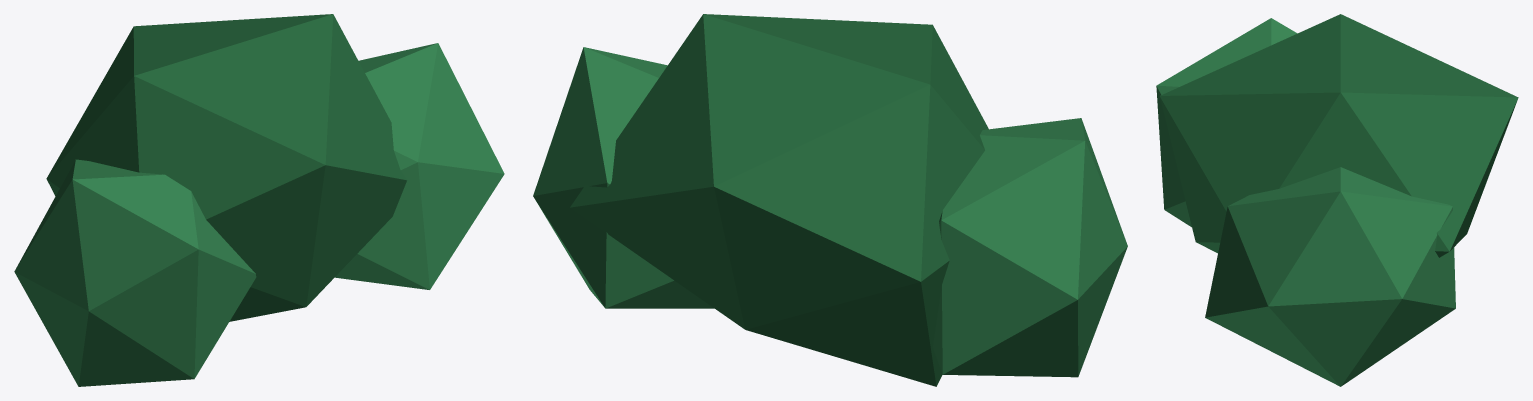
The model's file is bush.glb.
3 renders of one model, left to right at view 1: azimuth 30°, elevation 25°; view 2: azimuth 150°, elevation 25°; view 3: azimuth 270°, elevation 25°, orthographic. The views are drawn at different scales.
Visible parts, largest first — view 1: model; view 2: model; view 3: model.
Boxes of the visible parts, x1=… form: model: x1=14, y1=14, x2=504, y2=386; model: x1=533, y1=14, x2=1127, y2=386; model: x1=1156, y1=14, x2=1518, y2=386.
Bounding box in the file's own units: 2.13 × 1.25 × 1.56.
